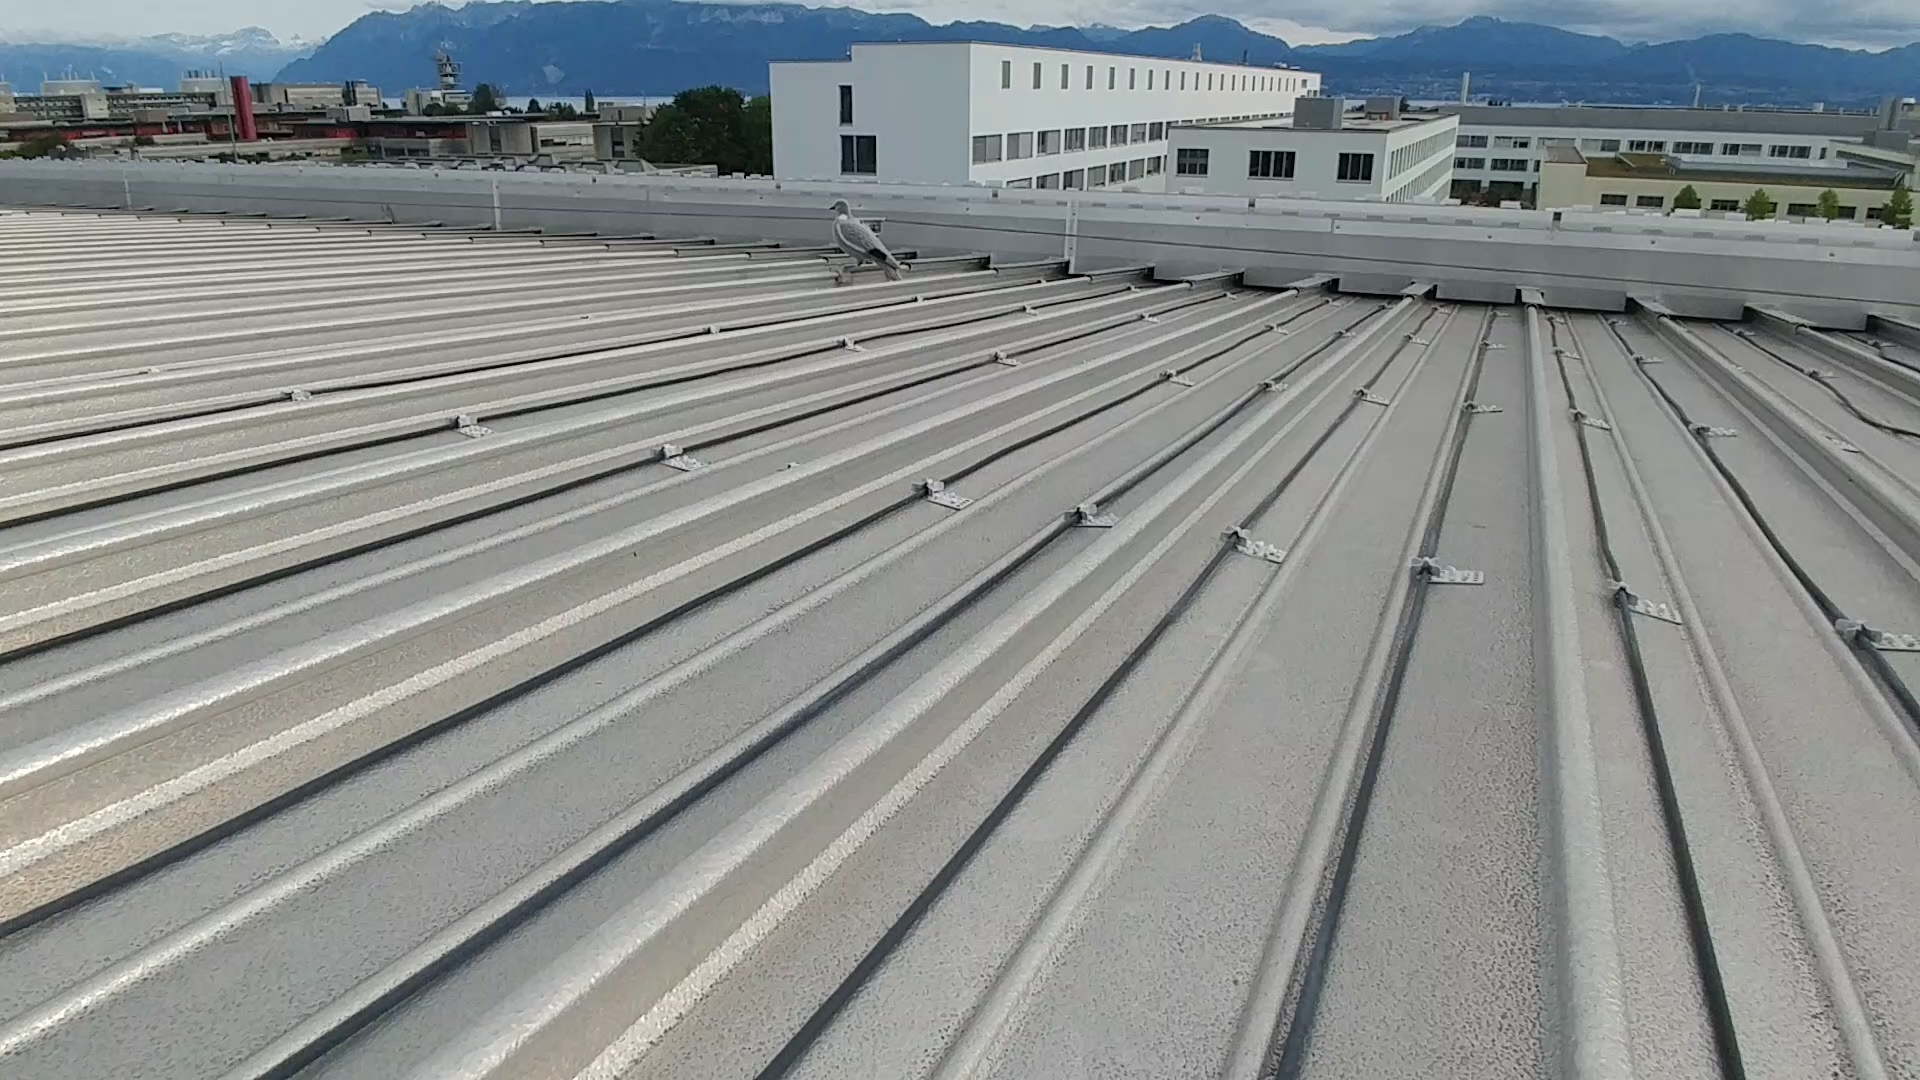Pigeon: (828, 199, 913, 284)
